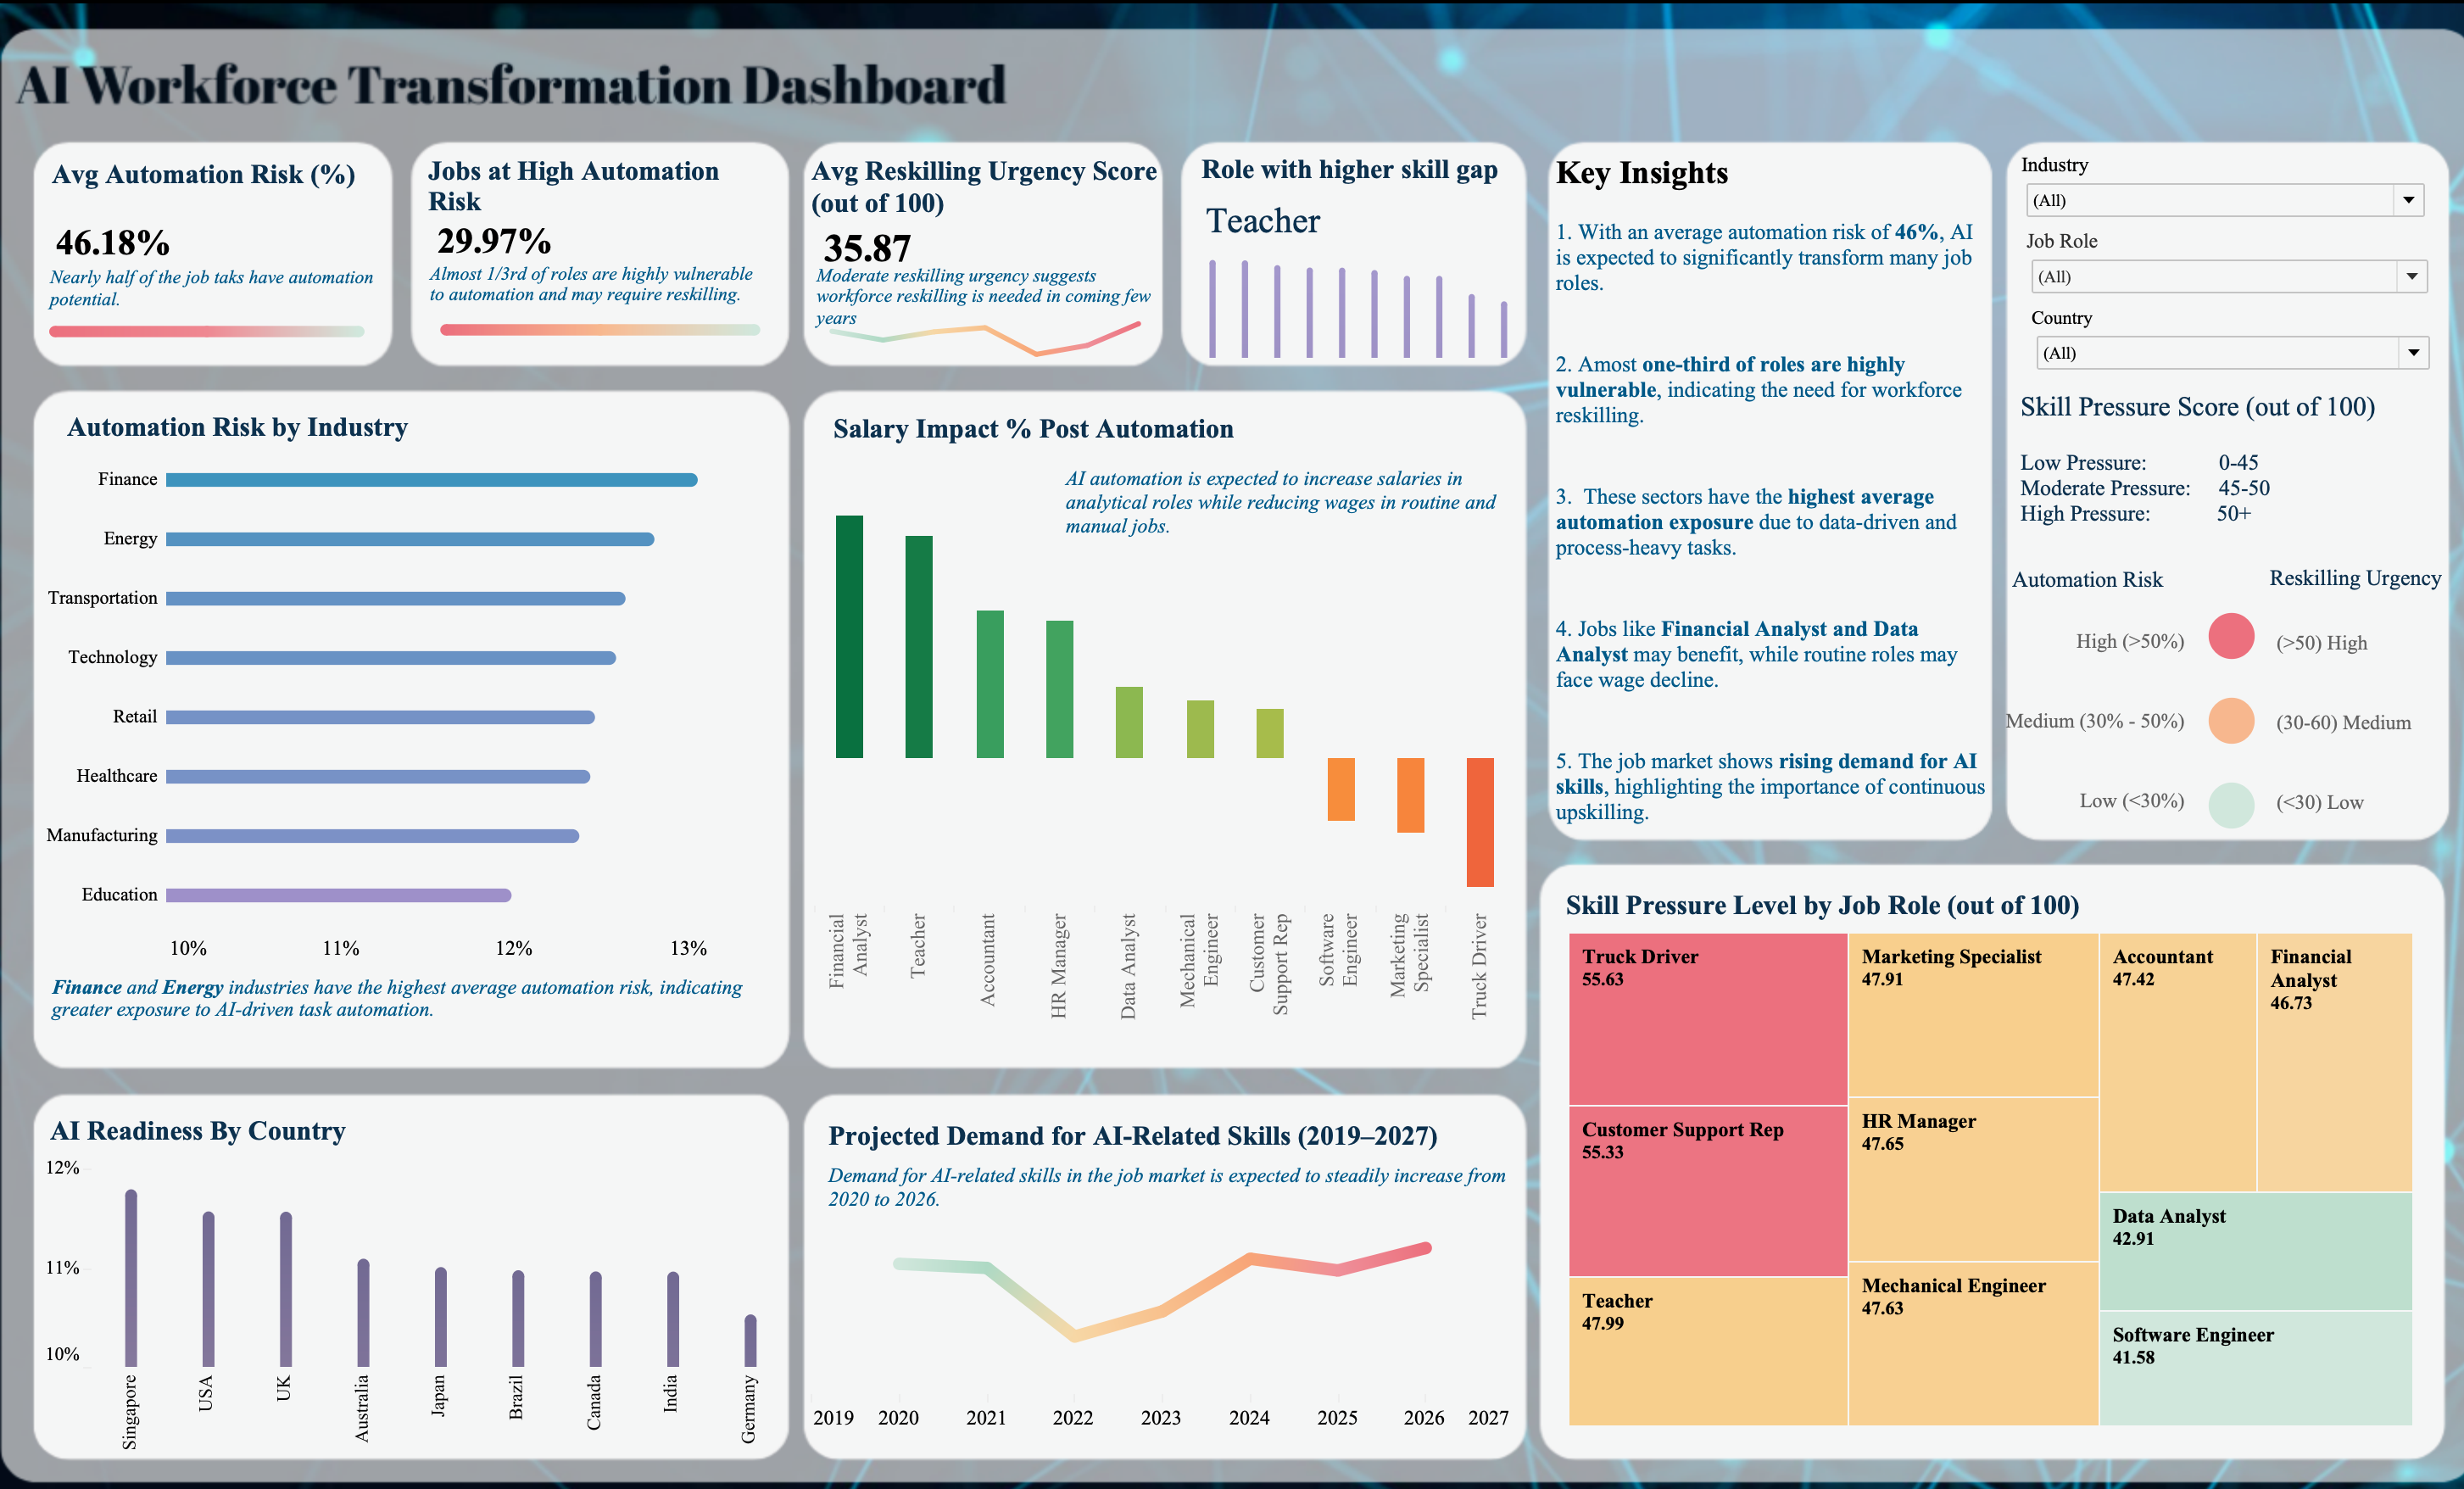

The page's visual inventory and layout, read from the dashboard file:
{"tool":"tableau","page":{"name":"Dashboard 1 (3)","canvas":[1500,900],"ordinal":0},"visuals":[{"type":"dashboard-object","param":"[com.tableau.addfilters].[0.0.0].[https://extensions.tableauusercontent.com/sand","box":[8,8,468,884]},{"type":"dashboard-object","param":"[com.tableau.addfilters].[0.0.0].[https://extensions.tableauusercontent.com/sand","box":[476,8,1016,884]},{"type":"text","box":[935,78,258,423]},{"type":"text","box":[496,83,209,51]},{"type":"text","box":[726,83,184,30]},{"type":"text","box":[48,86,188,30]},{"type":"filter","title":"Risk Proportion_Job role (2)","param":"[federated.0p9gqgq04e8aot14ojeup12vx3za].[none:industry:nk]","box":[1212,88,241,64]},{"type":"text","box":[270,90,201,36]},{"type":"worksheet","title":"High Risk Job %","mark":"Automatic","box":[239,105,112,71]},{"type":"worksheet","title":"Skill Gap Role","mark":"Text","box":[727,105,147,47]},{"type":"worksheet","title":"Avg Risk %","mark":"Automatic","box":[13,110,113,63]},{"type":"worksheet","title":"Reskilling Urgency Score","mark":"Text","box":[496,119,66,53]},{"type":"filter","title":"Salary change after AI","param":"[federated.0p9gqgq04e8aot14ojeup12vx3za].[none:job_role:nk]","box":[1215,133,240,57]},{"type":"text","box":[499,142,203,63]},{"type":"text","box":[271,145,200,42]},{"type":"text","box":[47,146,204,45]},{"type":"worksheet","title":"Reskilling Level","mark":"Automatic","rows":["reskilling_urgency_score"],"cols":["year"],"box":[480,151,241,63]},{"type":"worksheet","title":"Skill Gap Index","mark":"Line","cols":["job_role"],"box":[725,151,191,58]},{"type":"worksheet","title":"Avg Risk_Meter","mark":"Line","cols":["automation_risk_category"],"box":[7,155,269,76]},{"type":"worksheet","title":"High Risk Job % (2)","mark":"Line","cols":["automation_risk_category"],"box":[237,162,273,60]},{"type":"filter","title":"Risk Proportion_Job role (County)","param":"[federated.0p9gqgq04e8aot14ojeup12vx3za].[none:country:nk]","box":[1218,179,238,63]},{"type":"text","box":[1209,205,251,129]},{"type":"text","box":[57,235,244,30]},{"type":"text","box":[509,236,253,30]},{"type":"text","box":[646,247,276,95]},{"type":"worksheet","title":"Risk Proportion_Job role (2)","mark":"Line","rows":["industry"],"cols":["Calculation_1746130063034904690"],"box":[38,263,439,304]},{"type":"worksheet","title":"Salary change after AI","mark":"Bar","rows":["Calculation_1746130062881194080"],"cols":["job_role"],"box":[500,291,414,322]},{"type":"text","box":[1356,324,107,30]},{"type":"text","box":[1204,325,100,30]},{"type":"worksheet","title":"Avg Risk_Meter Legend","mark":"Circle","rows":["automation_risk_category"],"box":[1216,348,240,150]},{"type":"text","box":[1360,359,100,133]},{"type":"text","box":[1182,365,129,119]},{"type":"text","box":[941,517,309,30]},{"type":"worksheet","title":"Skill Pressure level","mark":"Automatic","box":[941,544,506,300]},{"type":"text","box":[48,554,414,66]},{"type":"text","box":[47,650,267,30]},{"type":"text","box":[506,653,392,30]},{"type":"worksheet","title":"Risk Proportion_Job role (County)","mark":"Line","cols":["country"],"box":[44,658,441,206]},{"type":"text","box":[506,679,414,39]},{"type":"worksheet","title":"Skill Growth Demand","mark":"Automatic","rows":["skill_demand_growth_percent"],"cols":["year"],"box":[498,687,414,163]}]}

Visuals, with their boxes in screenshot pixels (x1, y1, x2, y2), scaled from the page's 1500x900 canvas onto the 2464x1489 screenshot:
dashboard-object: 13,14,782,1475
dashboard-object: 782,14,2451,1475
text: 1536,129,1959,829
text: 815,137,1158,221
text: 1193,137,1495,187
text: 79,142,387,192
"Risk Proportion_Job role (2)" filter: 1991,146,2387,252
text: 443,149,773,209
"High Risk Job %" worksheet: 393,174,577,291
"Skill Gap Role" worksheet (Text marks): 1194,174,1435,252
"Avg Risk %" worksheet: 21,182,207,287
"Reskilling Urgency Score" worksheet (Text marks): 815,197,923,285
"Salary change after AI" filter: 1996,220,2390,315
text: 820,235,1153,339
text: 445,240,773,310
text: 77,242,412,316
"Reskilling Level" worksheet: 789,250,1185,354
"Skill Gap Index" worksheet (Line marks): 1191,250,1505,346
"Avg Risk_Meter" worksheet (Line marks): 12,256,454,382
"High Risk Job % (2)" worksheet (Line marks): 389,268,838,367
"Risk Proportion_Job role (County)" filter: 2001,296,2392,400
text: 1986,339,2399,553
text: 93,389,494,438
text: 836,390,1252,440
text: 1062,409,1514,566
"Risk Proportion_Job role (2)" worksheet (Line marks): 63,435,783,938
"Salary change after AI" worksheet (Bar marks): 822,482,1502,1014
text: 2227,536,2403,586
text: 1978,538,2142,588
"Avg Risk_Meter Legend" worksheet (Circle marks): 1998,576,2392,824
text: 2234,594,2399,814
text: 1942,604,2154,800
text: 1546,856,2054,905
"Skill Pressure level" worksheet: 1546,900,2377,1397
text: 79,917,759,1026
text: 77,1075,516,1125
text: 831,1080,1475,1130
"Risk Proportion_Job role (County)" worksheet (Line marks): 72,1089,797,1430
text: 831,1124,1511,1188
"Skill Growth Demand" worksheet: 818,1136,1498,1406
